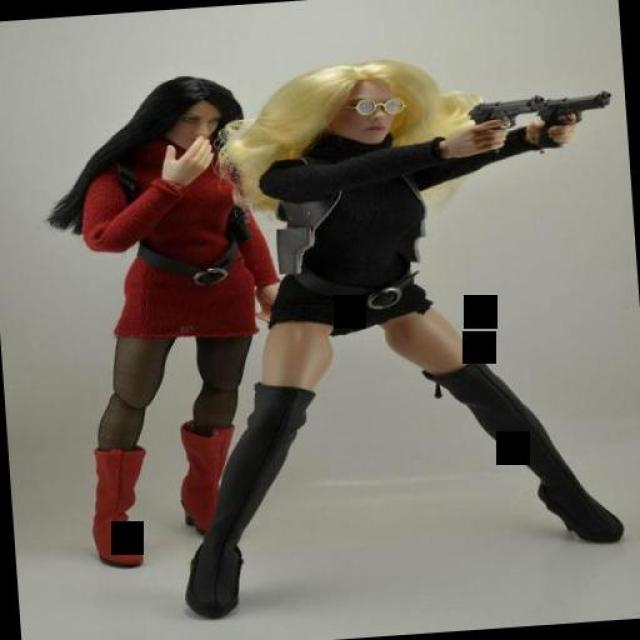gun: (459, 94, 545, 138), (530, 90, 612, 131)
